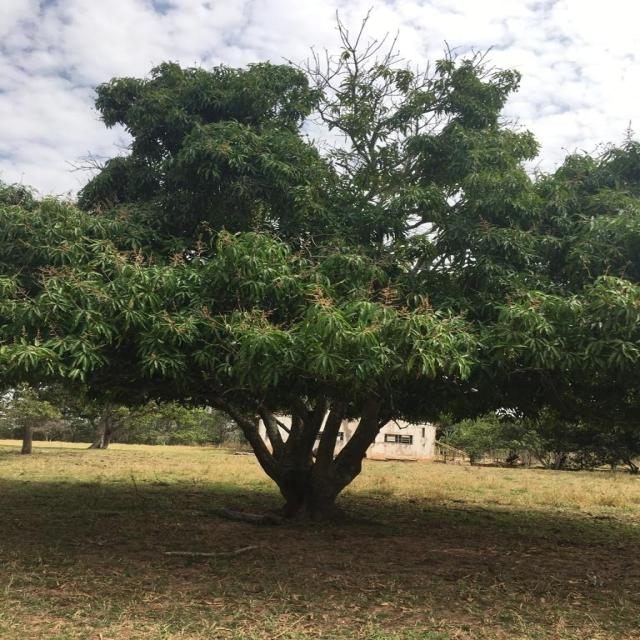Mango-Tree: (45, 47, 640, 490)
